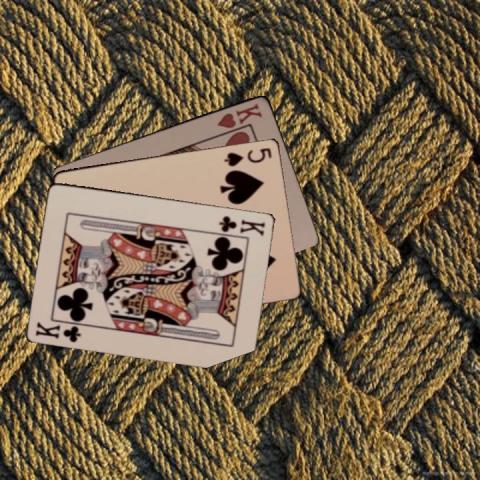5s: (222, 145, 274, 167)
Kc: (217, 212, 267, 237), (33, 319, 82, 343)
Kh: (214, 101, 264, 129)
